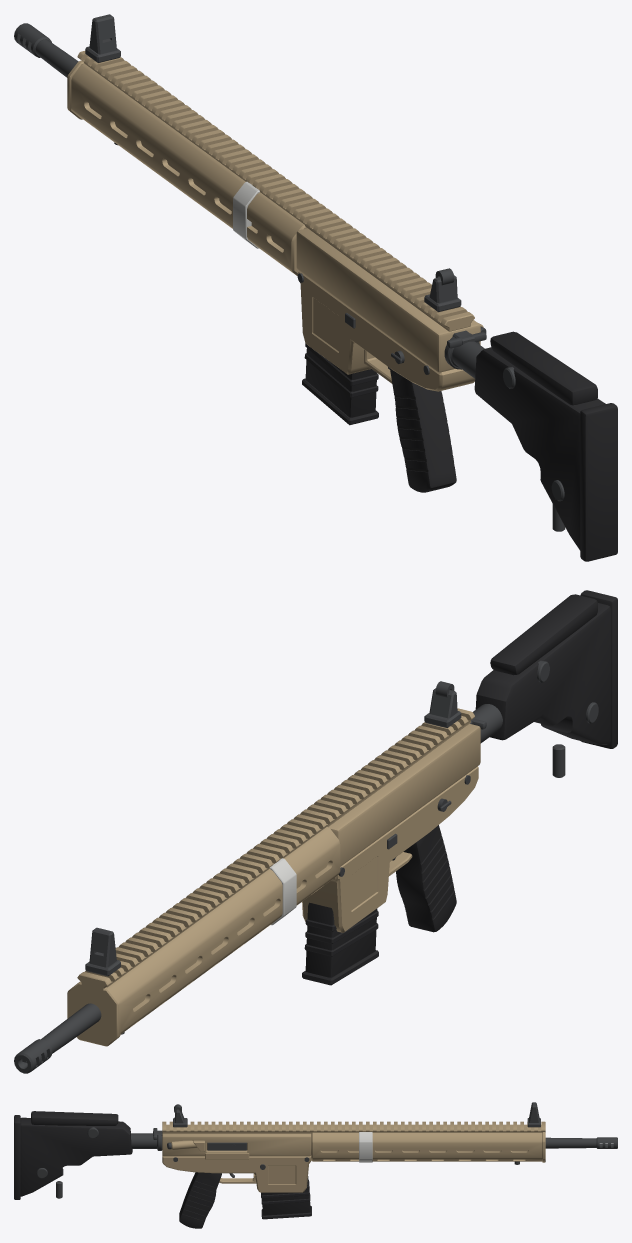
The picture shows the model from 3 angles, top to bottom: view 1: azimuth 30°, elevation 25°; view 2: azimuth 150°, elevation 25°; view 3: azimuth 270°, elevation 25°; orthographic projection. The views are drawn at different scales.
Visible parts, largest first — view 1: Body, Furniture, Metal, Mag, Tape; view 2: Body, Furniture, Metal, Mag, Tape; view 3: Body, Furniture, Metal, Mag, Tape.
Part boxes in pixels (x1=…): Body: x1=67, y1=51, x2=483, y2=391; Furniture: x1=390, y1=331, x2=617, y2=561; Metal: x1=14, y1=14, x2=565, y2=531; Mag: x1=302, y1=343, x2=378, y2=425; Tape: x1=233, y1=181, x2=259, y2=248; Body: x1=67, y1=708, x2=480, y2=1046; Furniture: x1=396, y1=590, x2=617, y2=932; Metal: x1=14, y1=660, x2=598, y2=1073; Mag: x1=302, y1=902, x2=378, y2=985; Tape: x1=269, y1=858, x2=296, y2=925; Body: x1=162, y1=1121, x2=545, y2=1192; Furniture: x1=14, y1=1111, x2=221, y2=1228; Metal: x1=36, y1=1102, x2=617, y2=1198; Mag: x1=261, y1=1176, x2=311, y2=1219; Tape: x1=359, y1=1132, x2=372, y2=1162.
Bounding box in the file's own units: 0.3173 × 1.19 × 5.34.
